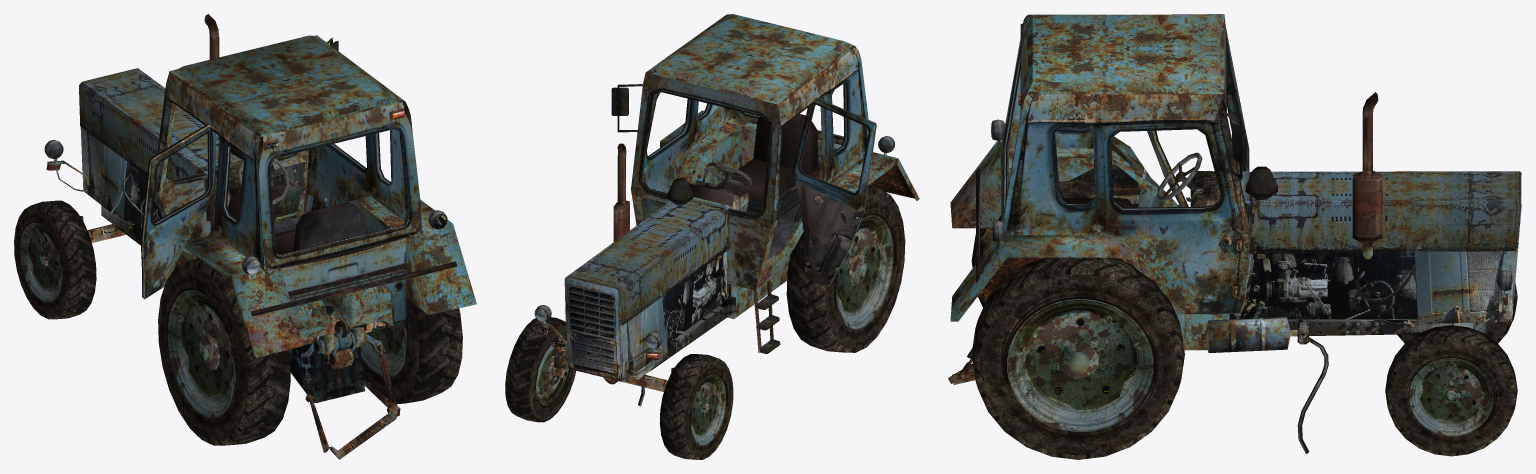
The model's file is tractor_mtz_01.fbx.
The picture shows the model from 3 angles, left to right: view 1: azimuth 30°, elevation 25°; view 2: azimuth 150°, elevation 25°; view 3: azimuth 270°, elevation 25°; orthographic projection. The views are drawn at different scales.
Visible parts, largest first — view 1: 1; view 2: 1; view 3: 1.
Part boxes in pixels (x1,y1,x2,y2): 1: [14, 14, 476, 459]; 1: [505, 14, 919, 459]; 1: [948, 14, 1521, 459].
Size of the model in its own units: 1.68 by 2.2 by 2.99.
